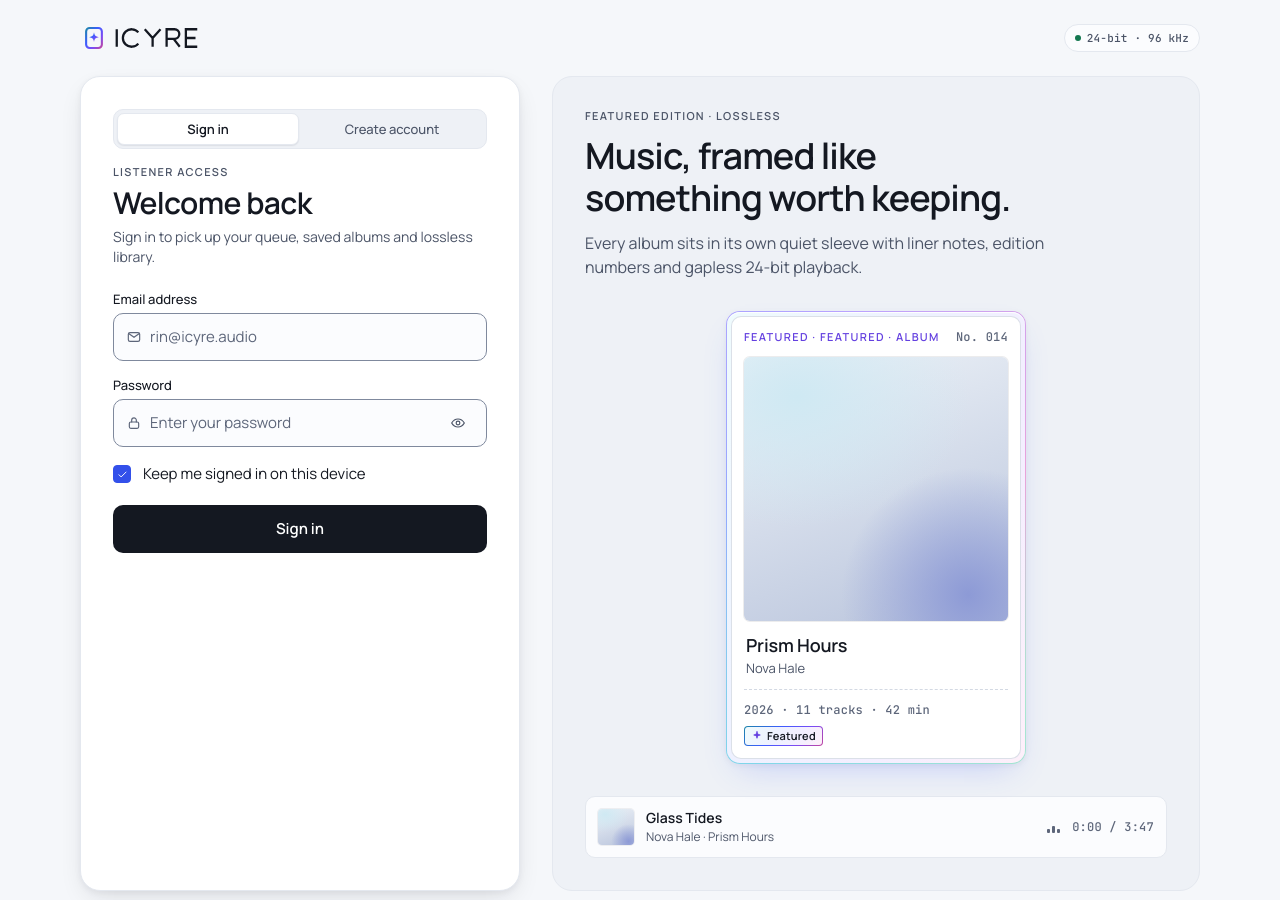
Test: Auth screens › validates login fields with Zod before submitting
Expected: the heading "Welcome back" is shown, top-left (113, 182), bottom-right (312, 223)
Step 1. Click the button "Sign in" → (300, 529), box top-left (113, 505), bottom-right (487, 553)
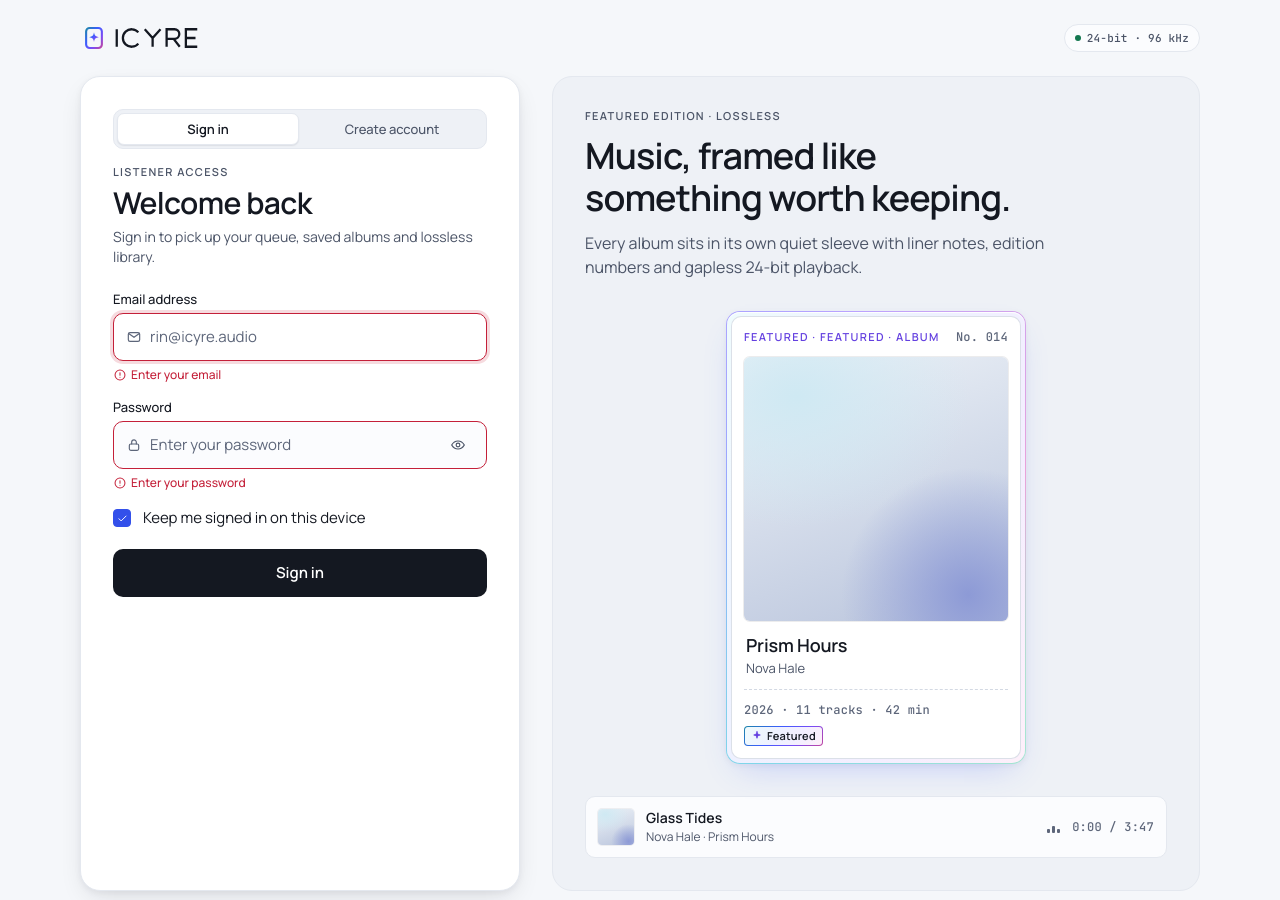
Now the text "Enter your email" is shown, box top-left (113, 367), bottom-right (221, 383)
Now the text "Enter your password" is shown, box top-left (113, 475), bottom-right (246, 491)
